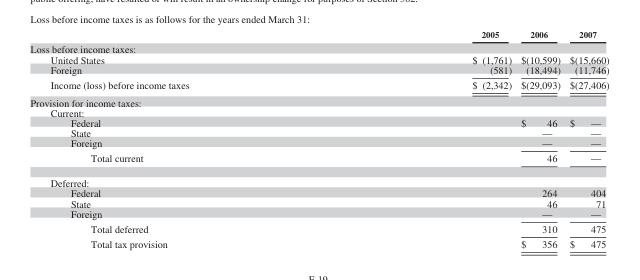table: (29, 29, 608, 249)
table column: (29, 29, 330, 249), (330, 29, 515, 249), (515, 29, 564, 249), (564, 29, 608, 249)
table column header: (29, 29, 608, 41)
table projected row header: (29, 170, 608, 187), (29, 93, 608, 107), (29, 41, 608, 54), (29, 107, 608, 117)
table row: (29, 150, 608, 170), (29, 76, 608, 93), (29, 170, 608, 187), (29, 220, 608, 235), (29, 93, 608, 107), (29, 235, 608, 249), (29, 41, 608, 54), (29, 137, 608, 150), (29, 29, 608, 41), (29, 64, 608, 76), (29, 208, 608, 220), (29, 187, 608, 198), (29, 54, 608, 64), (29, 107, 608, 117), (29, 117, 608, 127), (29, 127, 608, 137), (29, 198, 608, 208)
